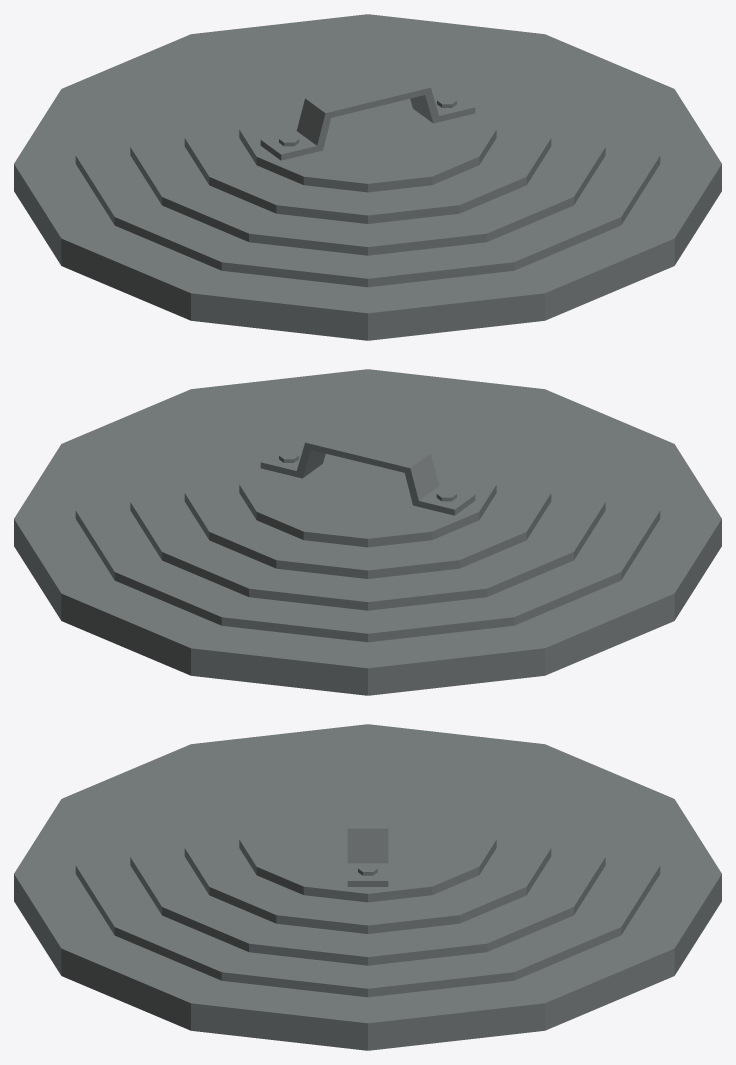
The model's file is scene_3dTEZ2f4h5.glb.
3 renders of one model, top to bottom at view 1: azimuth 30°, elevation 25°; view 2: azimuth 150°, elevation 25°; view 3: azimuth 270°, elevation 25°, orthographic.
Parts seen in each view (by area): view 1: Garbage_Lid_Shield; view 2: Garbage_Lid_Shield; view 3: Garbage_Lid_Shield.
Boxes of the visible parts, left/top/right/bottom form: Garbage_Lid_Shield: left=14, top=14, right=721, bottom=340; Garbage_Lid_Shield: left=14, top=369, right=721, bottom=695; Garbage_Lid_Shield: left=14, top=724, right=721, bottom=1050.
Size of the model in its own units: 1.1 by 0.1697 by 1.1.
1 material, 1 textured.
